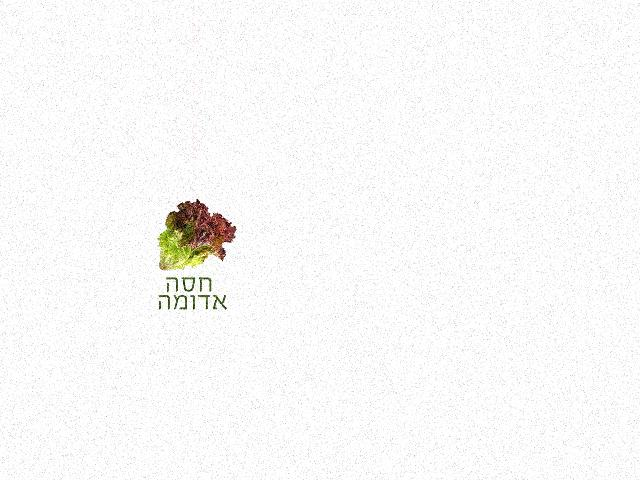lettuce: (150, 199, 237, 273)
